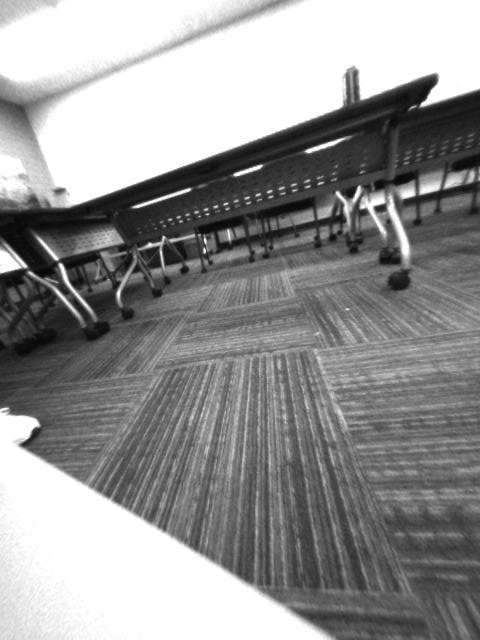can: (338, 66, 365, 109)
